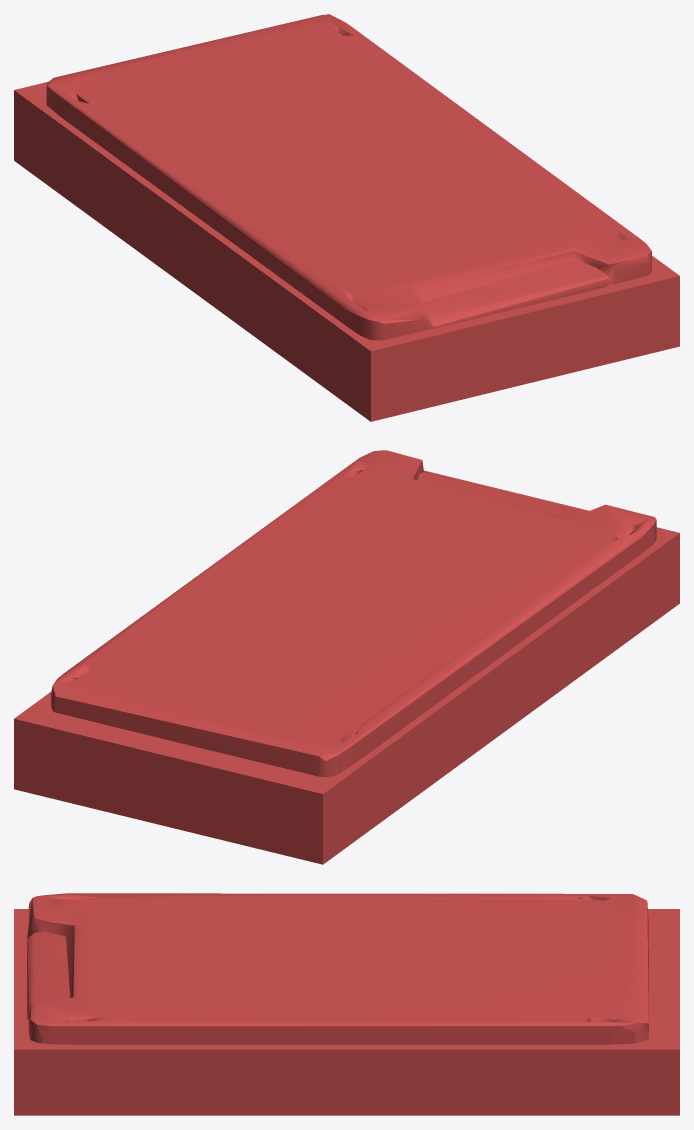
Rendered from Final_ComplexWall_2x1_02.FBX.
The picture shows the model from 3 angles, top to bottom: view 1: azimuth 30°, elevation 25°; view 2: azimuth 150°, elevation 25°; view 3: azimuth 270°, elevation 25°; orthographic projection. The views are drawn at different scales.
Parts seen in each view (by area): view 1: Final_ComplexWall_2x1_02; view 2: Final_ComplexWall_2x1_02; view 3: Final_ComplexWall_2x1_02.
Boxes of the visible parts, bbox=[...] form: Final_ComplexWall_2x1_02: bbox=[14, 14, 679, 421]; Final_ComplexWall_2x1_02: bbox=[14, 450, 679, 864]; Final_ComplexWall_2x1_02: bbox=[14, 893, 679, 1115].
Bounding box in the file's own units: 100 × 200 × 28.47.
